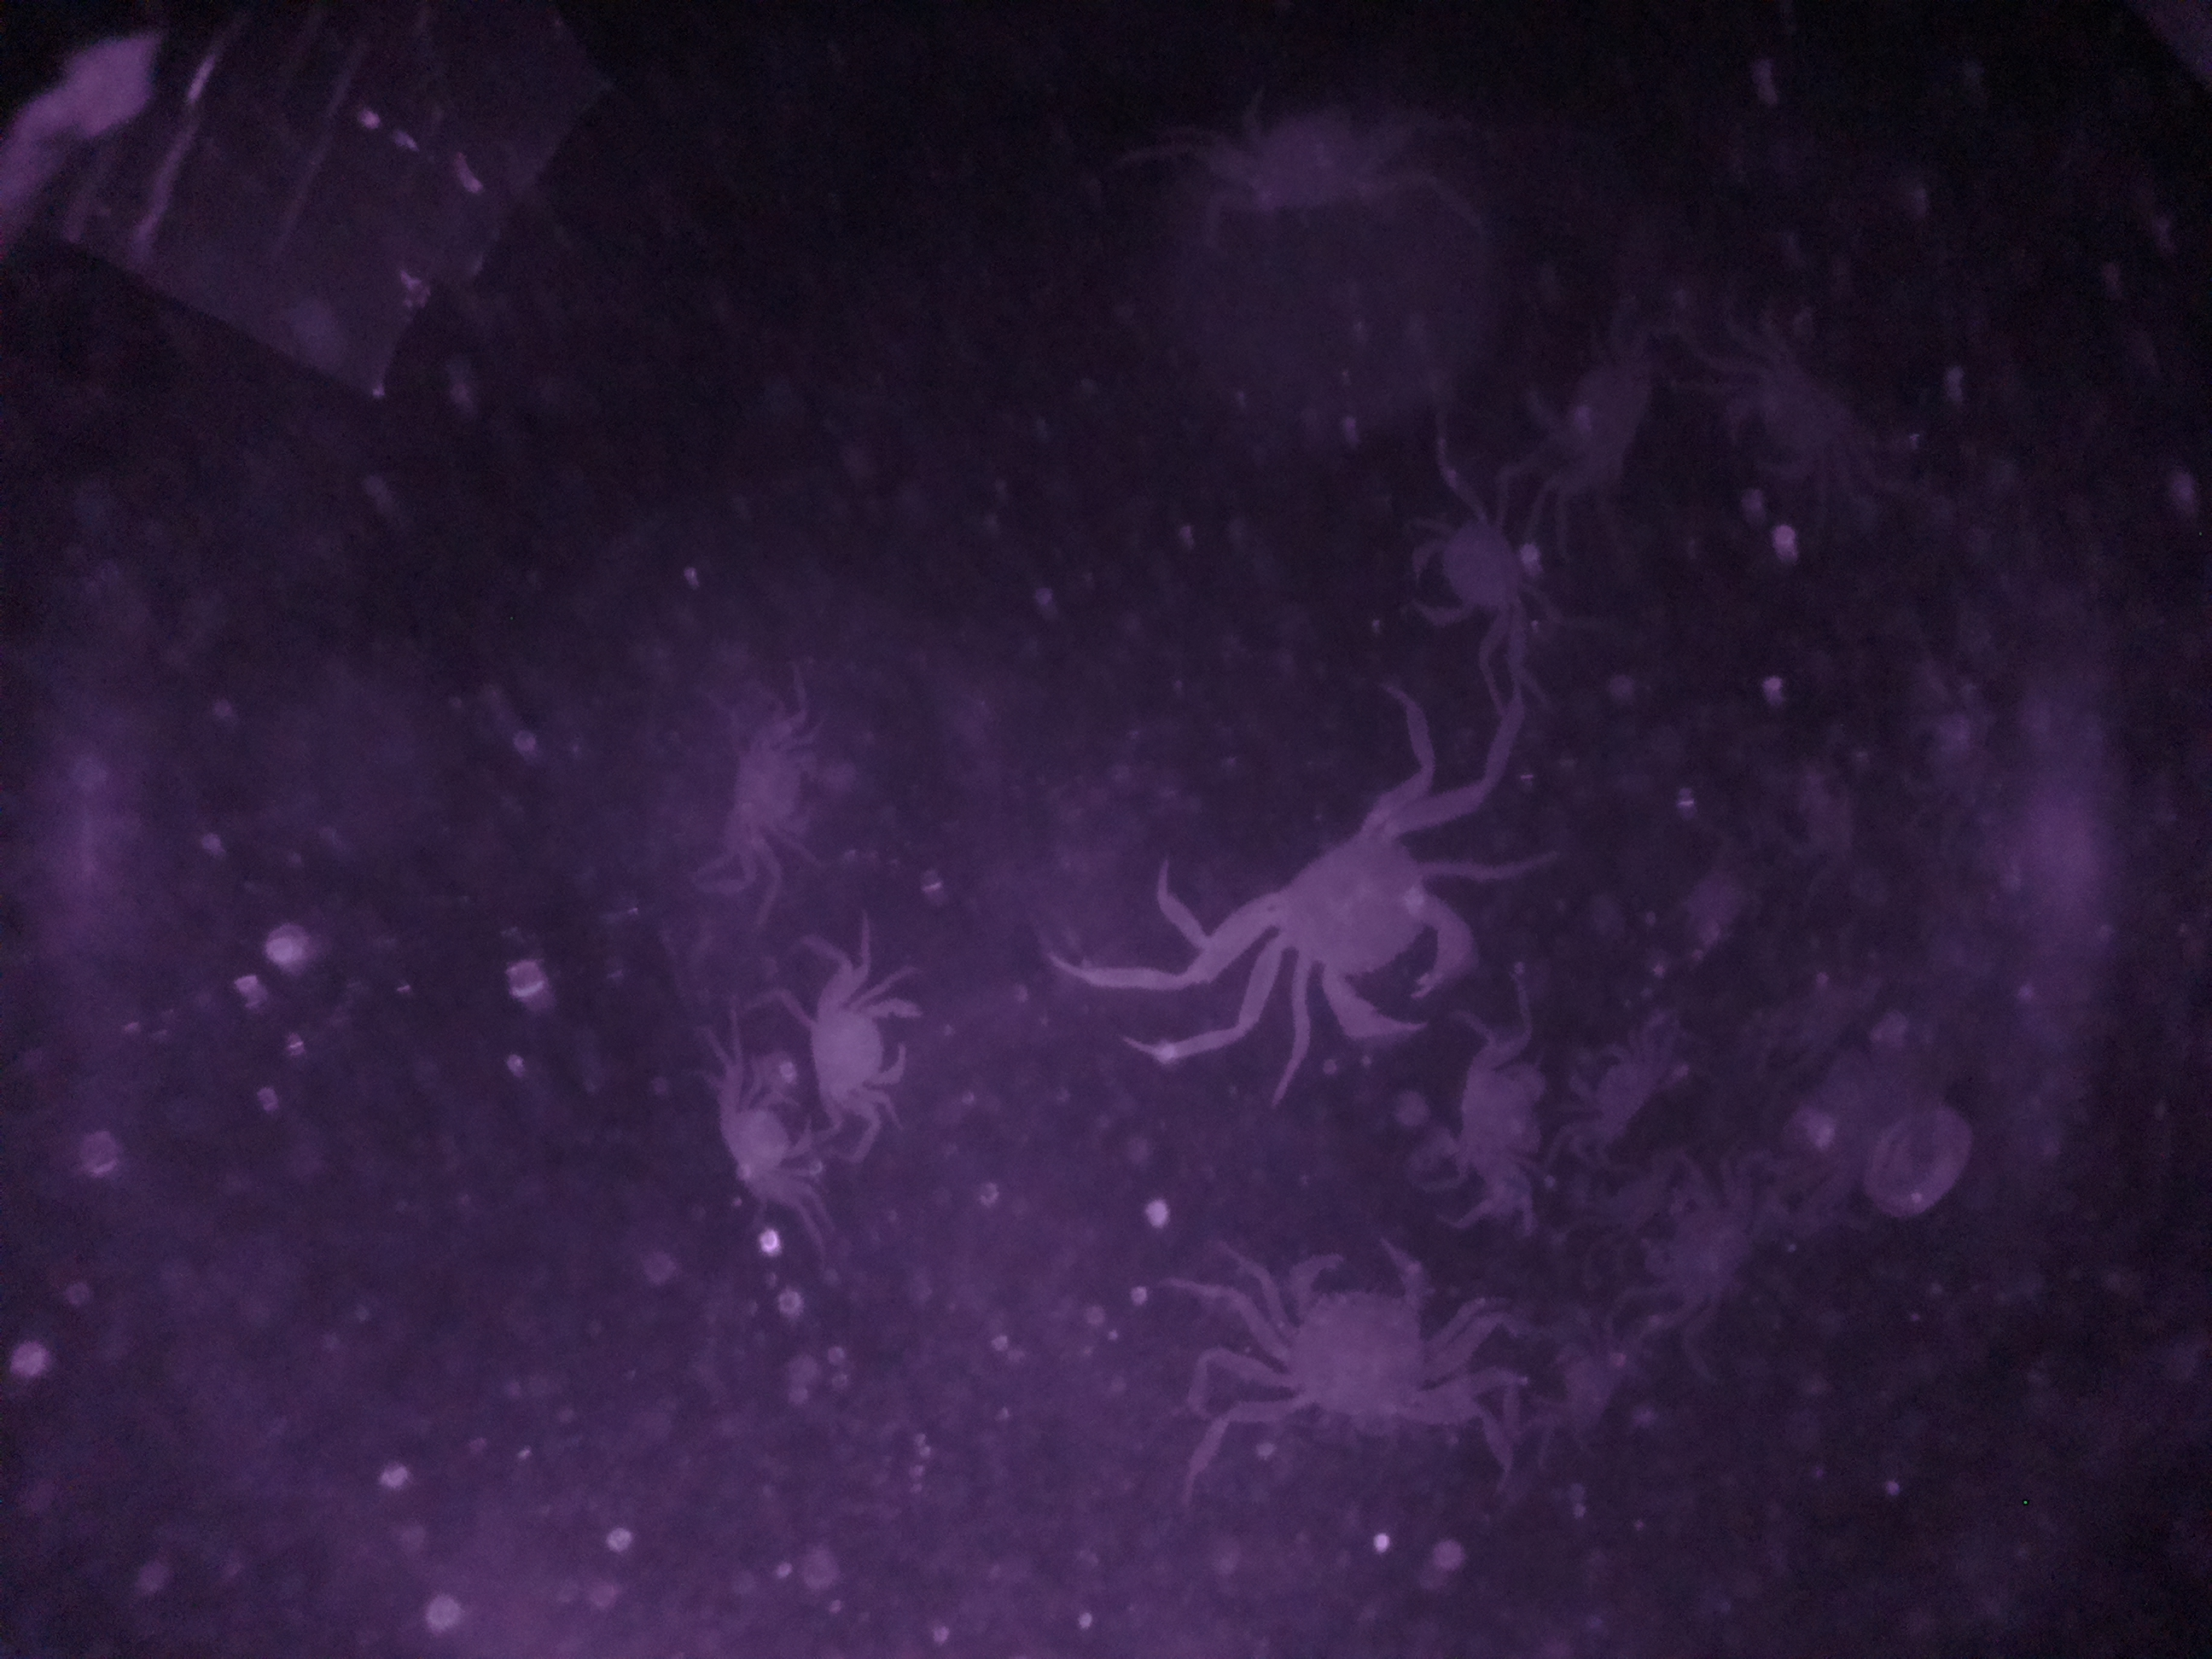Crab: (1217, 788, 1486, 1051), (1244, 1218, 1479, 1453), (1393, 467, 1538, 664), (705, 1042, 834, 1251), (786, 955, 925, 1141)
